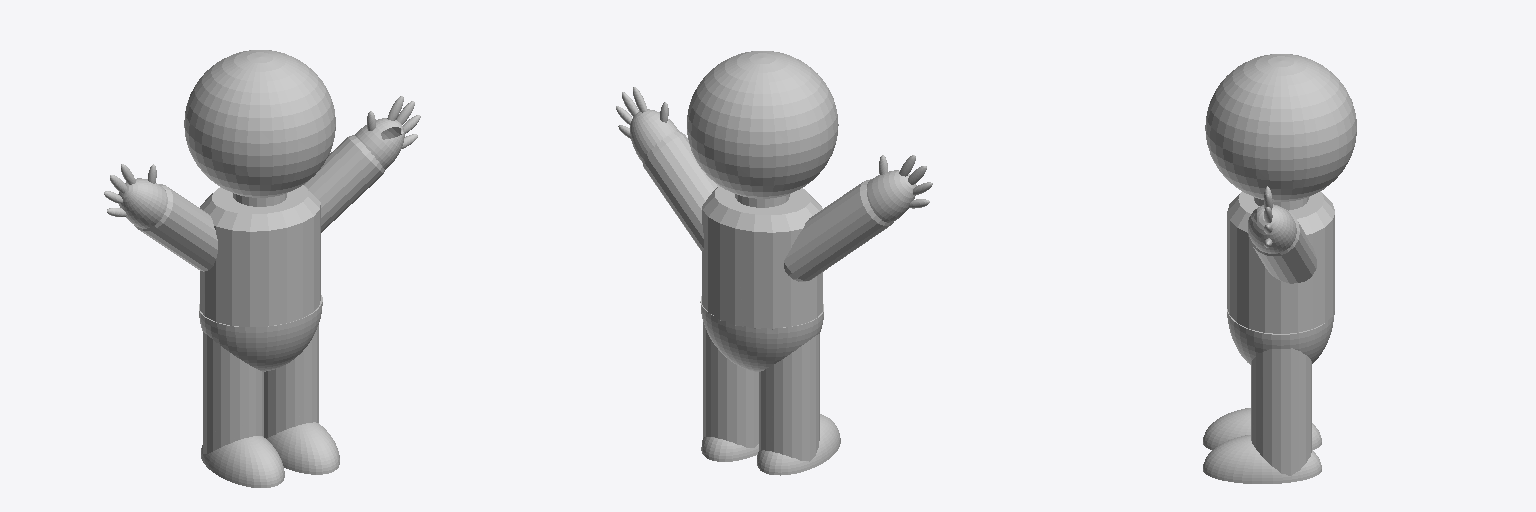
File: ball_string_man.obj
3 renders of one model, left to right at view 1: azimuth 30°, elevation 25°; view 2: azimuth 150°, elevation 25°; view 3: azimuth 270°, elevation 25°, orthographic.
Parts seen in each view (by area): view 1: obj_0.003; view 2: obj_0.003; view 3: obj_0.003.
Part boxes in pixels (x1,y1,x2,y2): obj_0.003: (104,50,420,487); obj_0.003: (616,51,932,475); obj_0.003: (1203,54,1356,483).
Size of the model in its own units: 26.83 by 32 by 11.35.